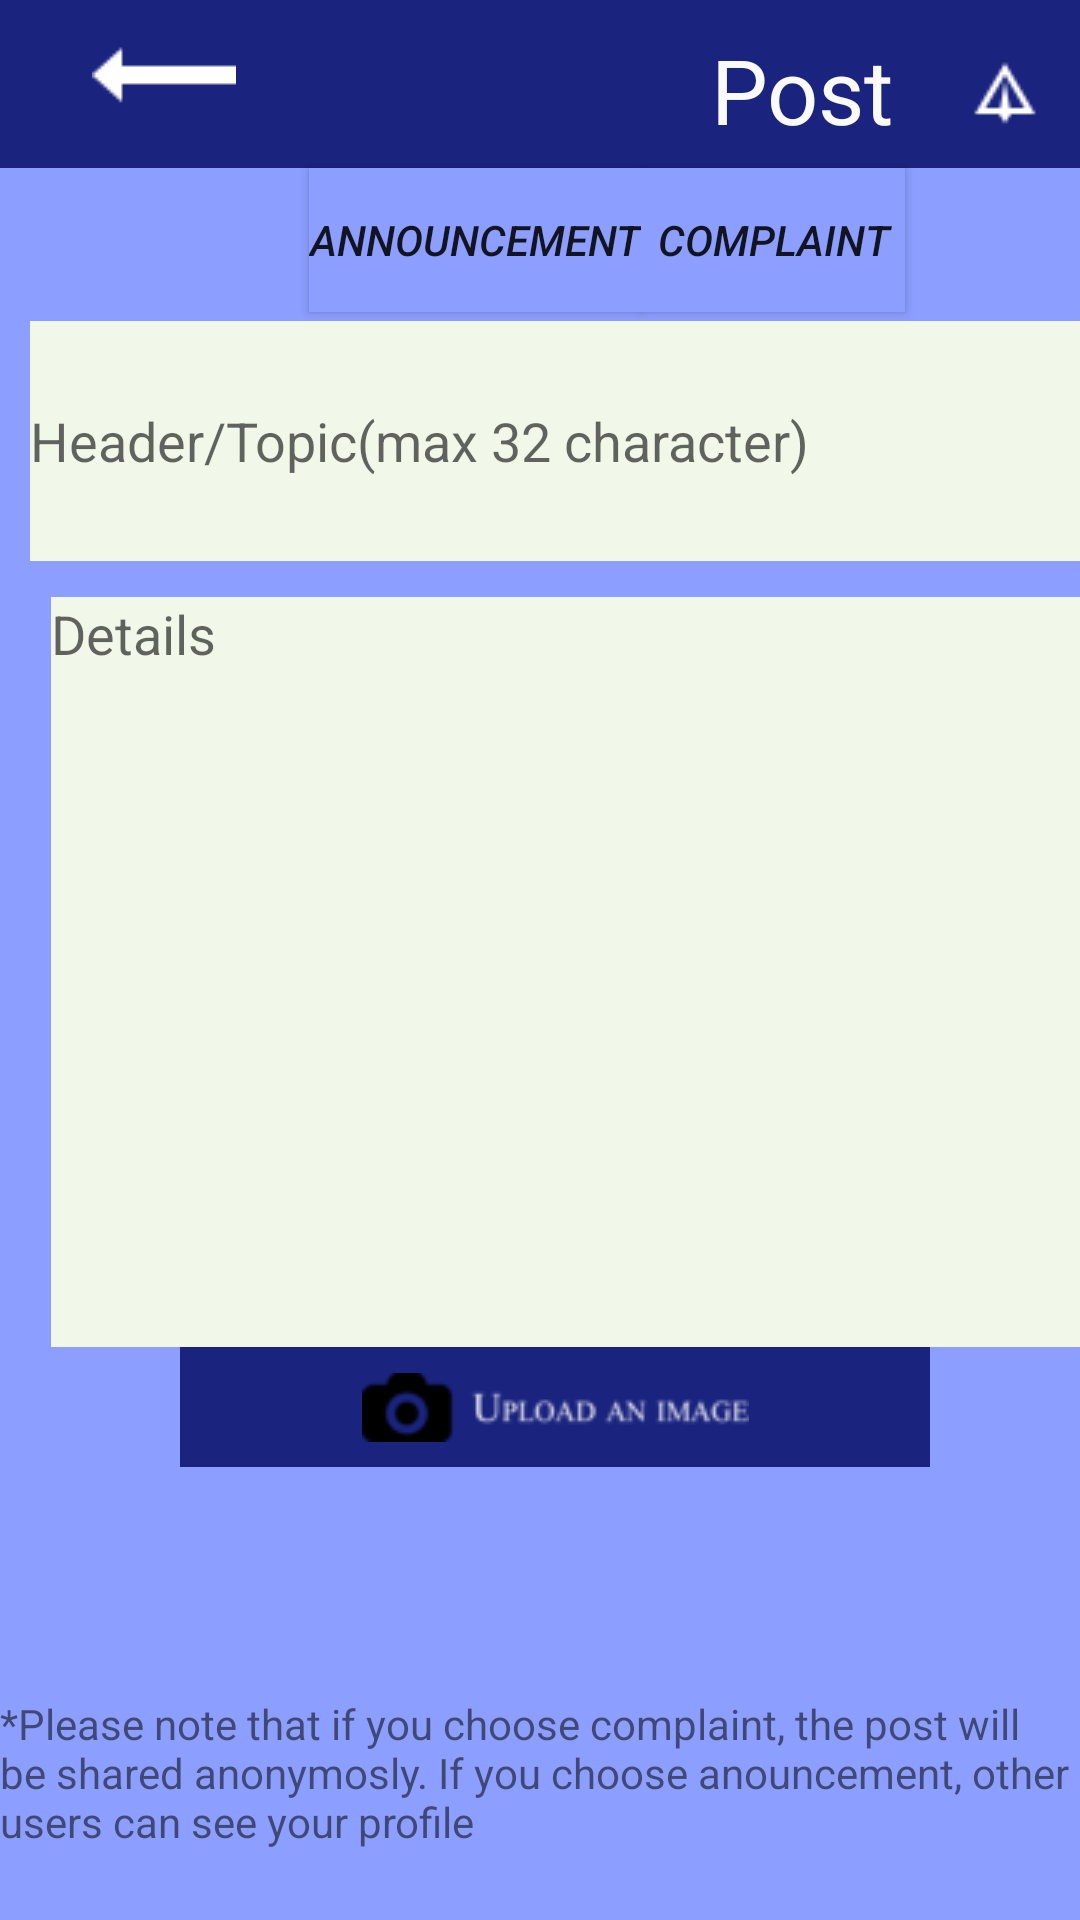

Where to tap for icons on this 1080×1920 app screen, as (x=x, y=y):
arrow: (x=164, y=75)
paper plane: (x=1005, y=93)
